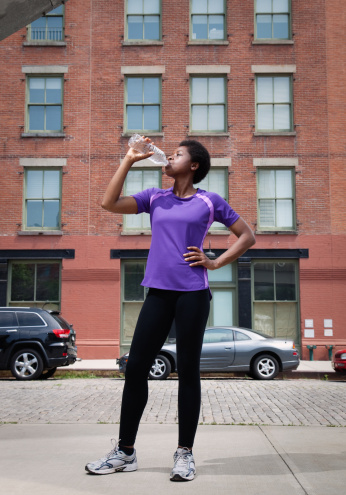em pe: (84, 125, 243, 470)
